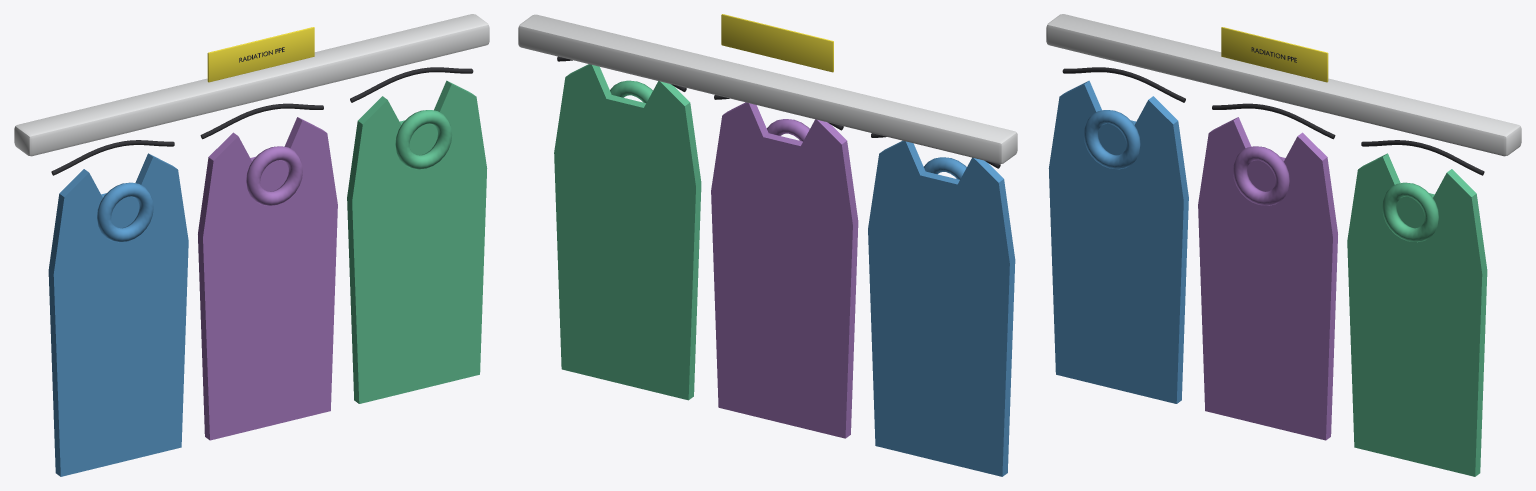
The model's file is LeadApronRack.fbx.
The picture shows the model from 3 angles, left to right: view 1: azimuth 30°, elevation 25°; view 2: azimuth 150°, elevation 25°; view 3: azimuth 330°, elevation 25°; orthographic projection. The views are drawn at different scales.
Visible parts, largest first — view 1: LeadApronRack_Mesh; view 2: LeadApronRack_Mesh; view 3: LeadApronRack_Mesh.
Part boxes in pixels (box(x1,y1,x2,y2)): LeadApronRack_Mesh: box(14, 14, 489, 476); LeadApronRack_Mesh: box(518, 14, 1017, 476); LeadApronRack_Mesh: box(1046, 14, 1521, 476).
Size of the model in its own units: 1.3 by 1.02 by 0.168.
